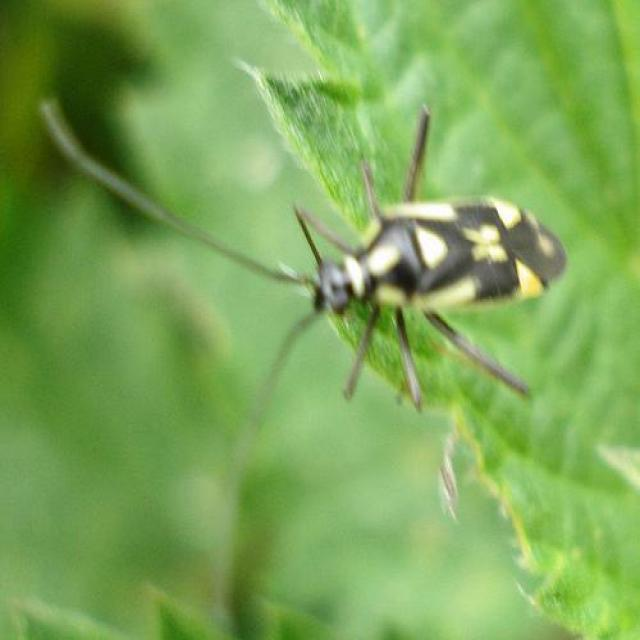Miridae-Adult-: (24, 84, 578, 434)
